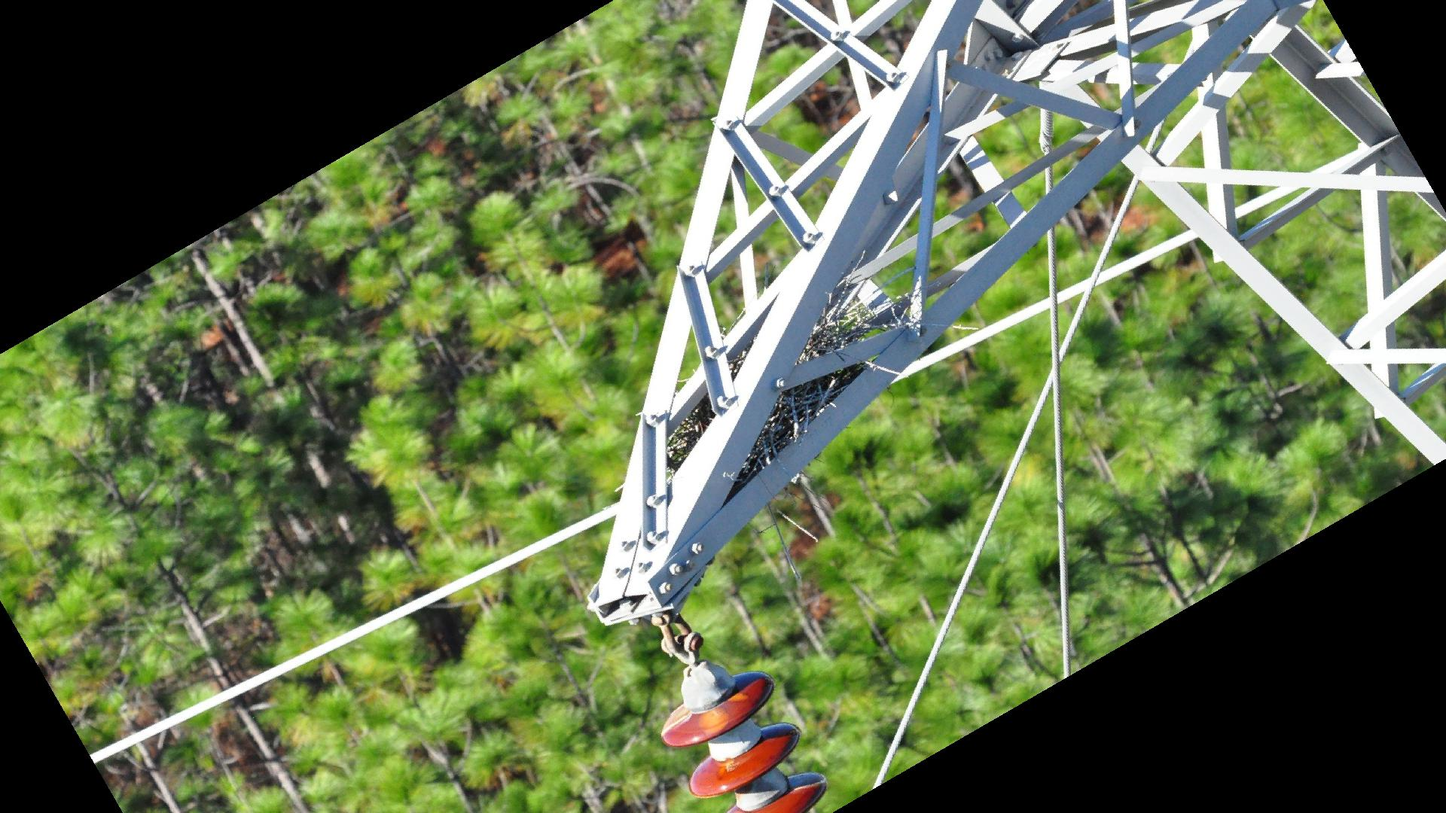insulator: (656, 669, 834, 813)
insulator_flashover: (657, 702, 692, 740), (696, 704, 732, 738), (782, 769, 828, 793)
